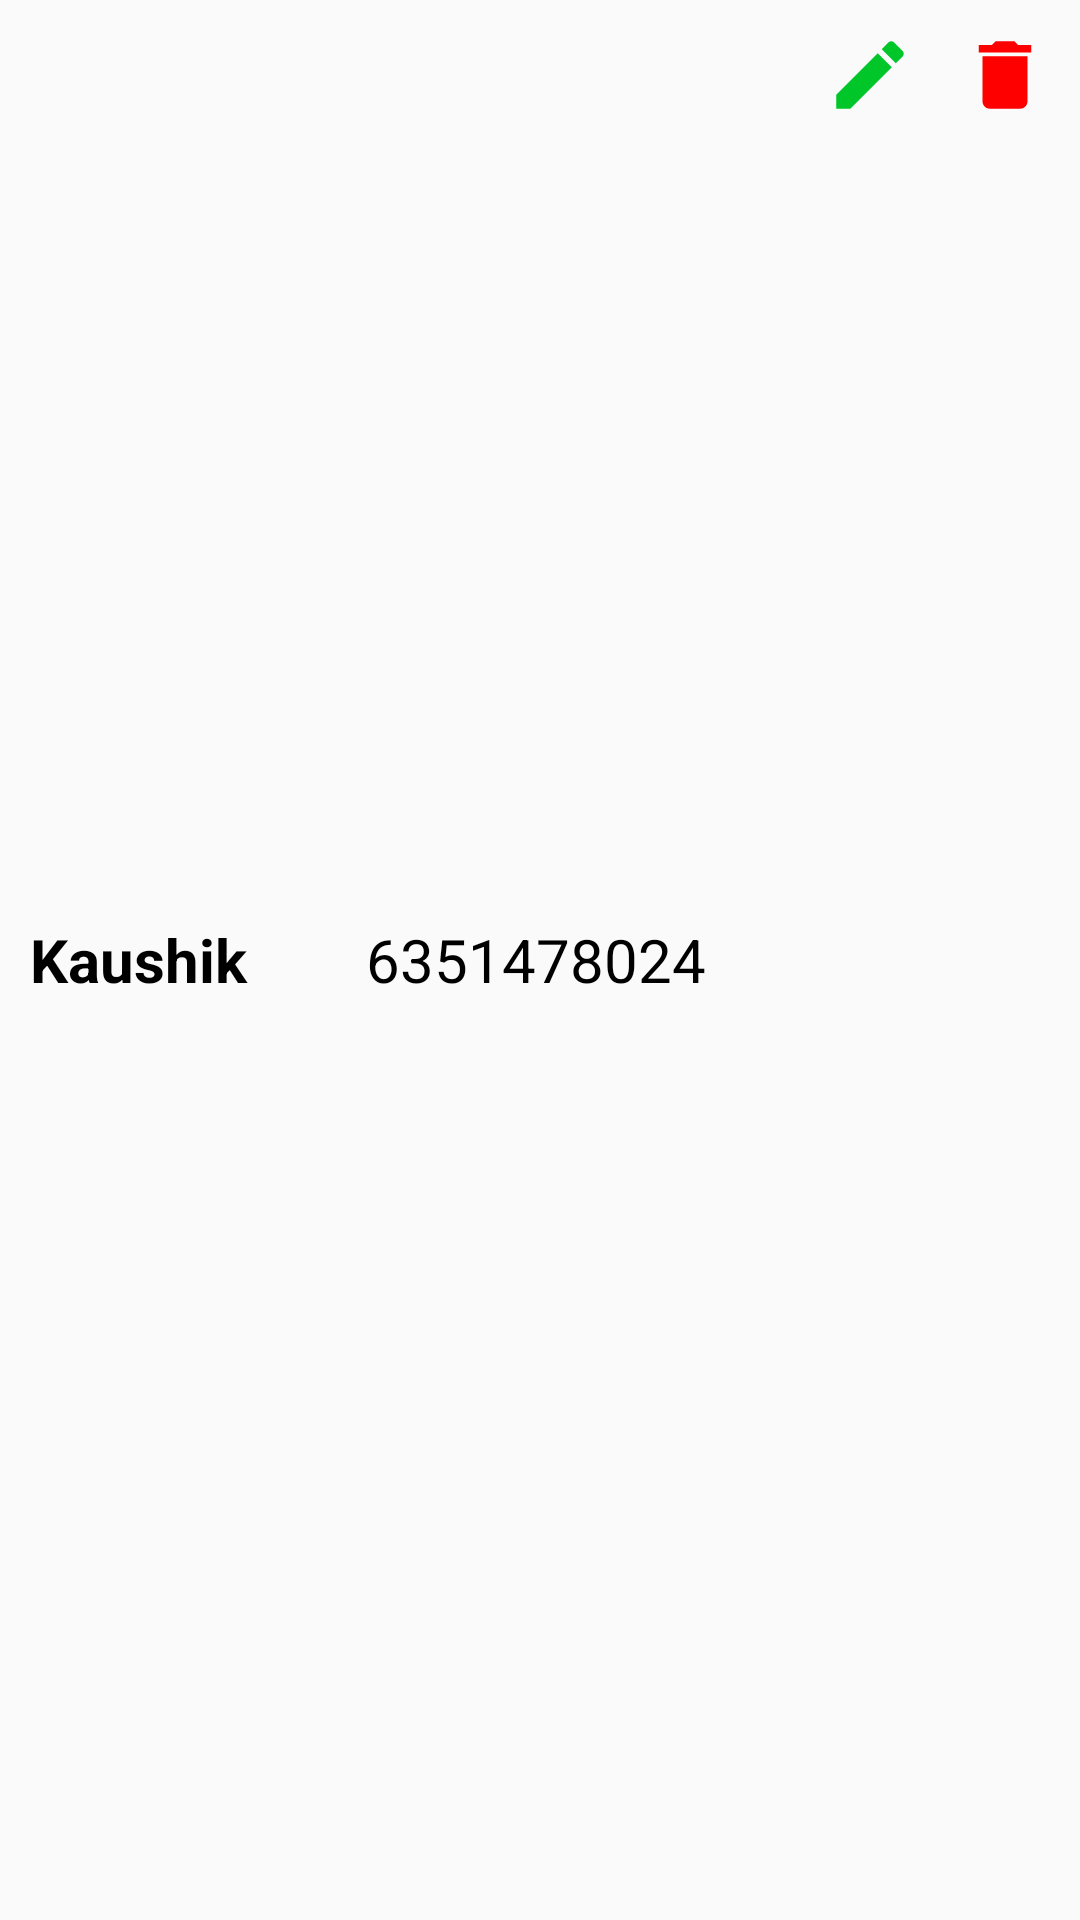

Where icons sit on this 1080 x 1920 app screen, as (x1, y1, x2, y2):
create: (836, 41, 904, 109)
delete: (978, 41, 1032, 109)
